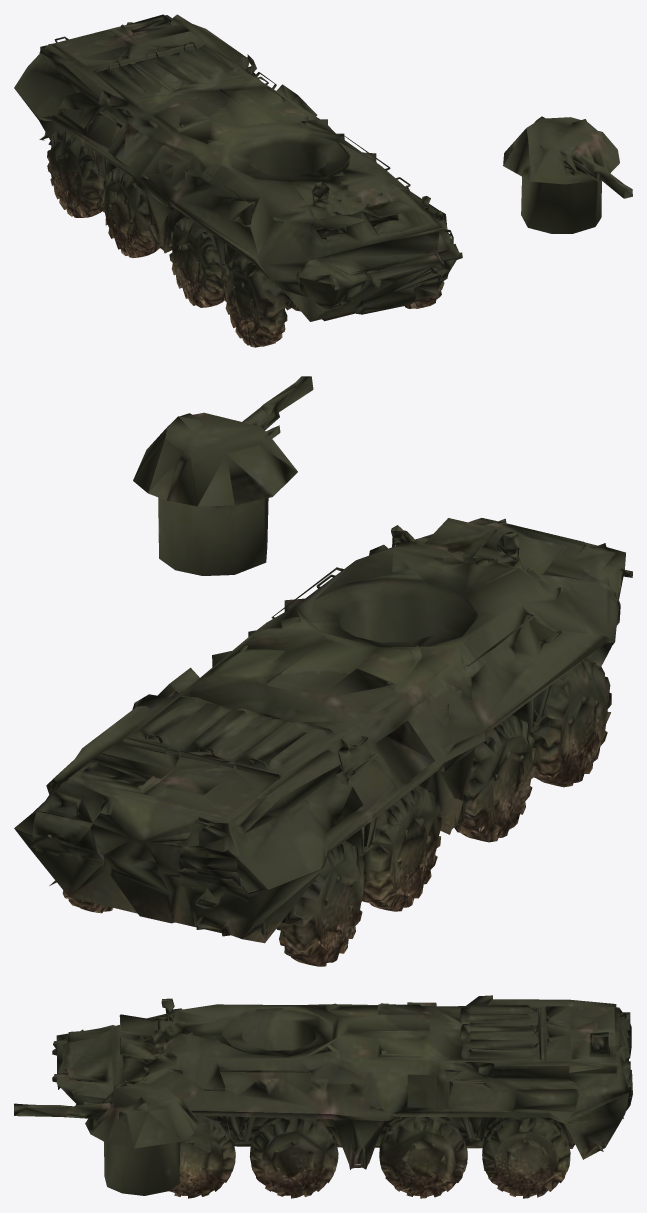
Rendered from apc_btr80.glb.
The picture shows the model from 3 angles, top to bottom: view 1: azimuth 30°, elevation 25°; view 2: azimuth 150°, elevation 25°; view 3: azimuth 270°, elevation 25°; orthographic projection. The views are drawn at different scales.
Visible parts, largest first — view 1: BehTehEr_1; view 2: BehTehEr_1; view 3: BehTehEr_1.
Boxes of the visible parts, <box> form: BehTehEr_1: <box>14,14,632,347</box>; BehTehEr_1: <box>14,376,632,966</box>; BehTehEr_1: <box>14,995,632,1198</box>.
Bounding box in the file's own units: 4.79 × 2.19 × 7.65.
1 material, 1 textured.
